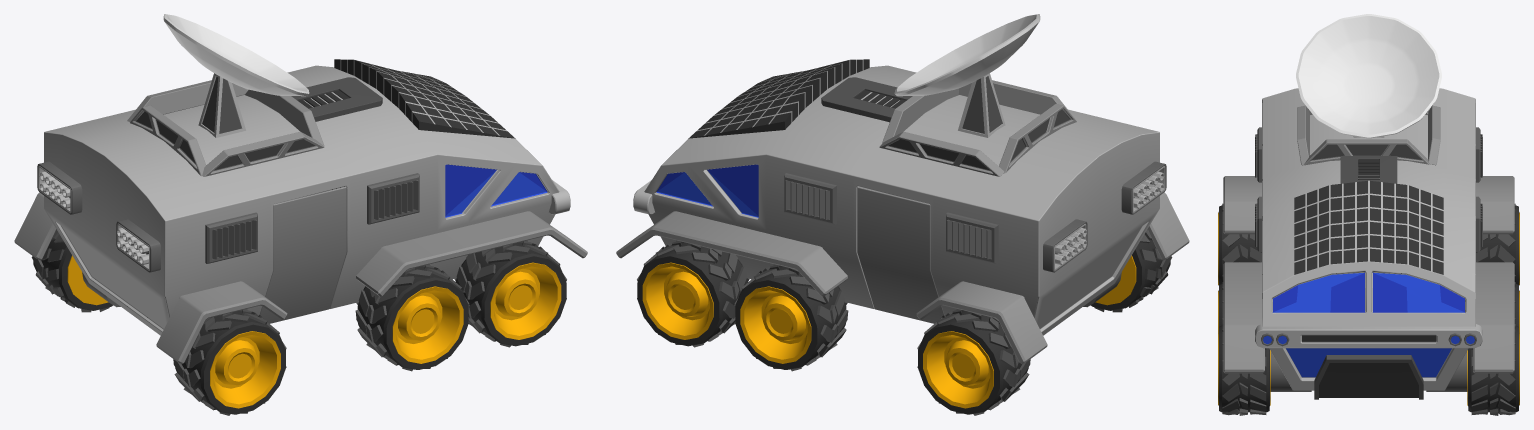
File: mars_station.glb
3 views of the same model, side by side, from view 1: azimuth 30°, elevation 25°; view 2: azimuth 150°, elevation 25°; view 3: azimuth 270°, elevation 25° (orthographic). The views are drawn at different scales.
Visible parts, largest first — view 1: vehicle.001; view 2: vehicle.001; view 3: vehicle.001.
Part boxes in pixels (x1,y1,x2,y2): vehicle.001: [14, 14, 587, 415]; vehicle.001: [616, 14, 1189, 415]; vehicle.001: [1218, 14, 1519, 415].
Bounding box in the file's own units: 5.23 × 3.88 × 3.73.
1 material, 1 textured.
